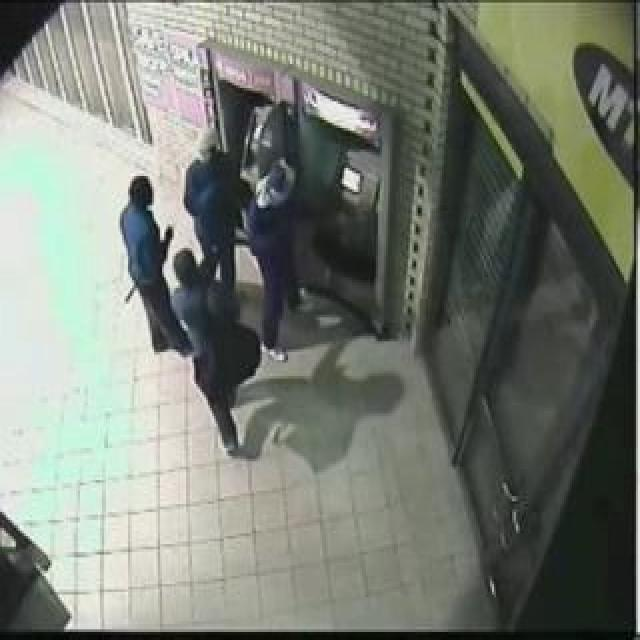thief: (96, 110, 330, 349)
